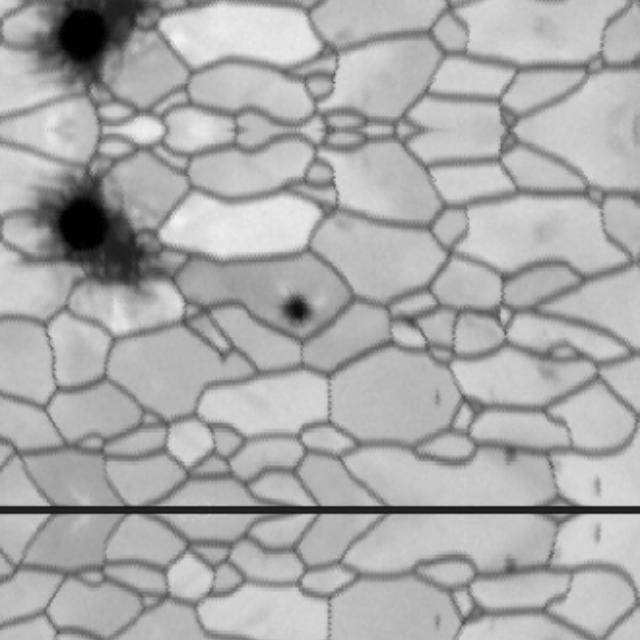good_void: (11, 147, 215, 346), (51, 0, 177, 97), (269, 285, 324, 336), (491, 436, 533, 477), (491, 545, 533, 586), (529, 360, 564, 393), (586, 469, 612, 505), (586, 517, 612, 553), (423, 385, 450, 415), (423, 607, 450, 637), (330, 23, 349, 42), (330, 220, 349, 238), (534, 629, 562, 640)
